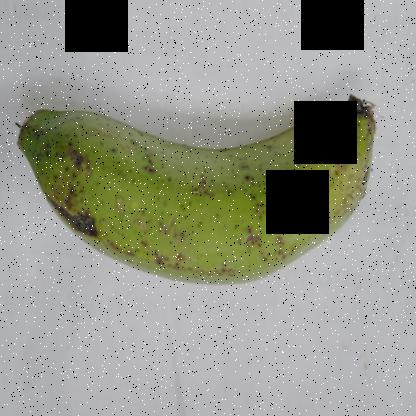unripe: (13, 75, 395, 292)
